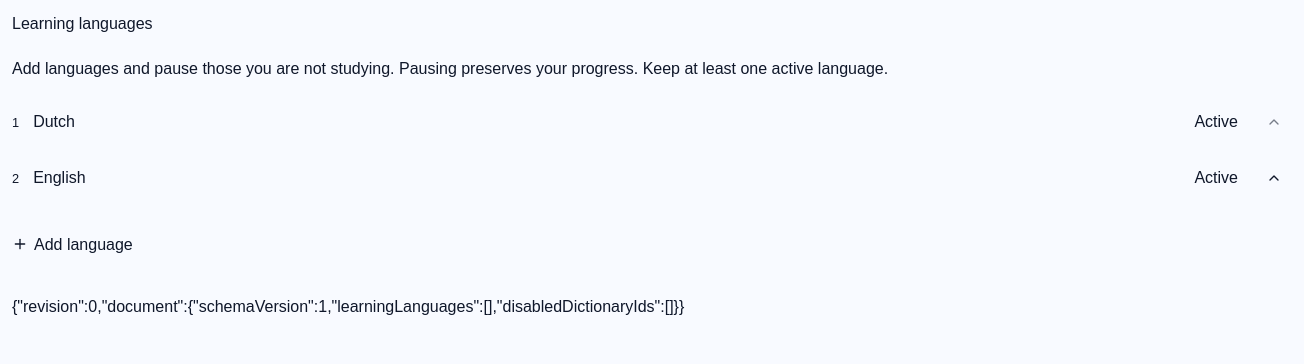
Test: conflict replaces stale selection with the server winner and does not silently reapply
Click the switch named "Study English" at (1216, 178), box [1184,162,1248,194]
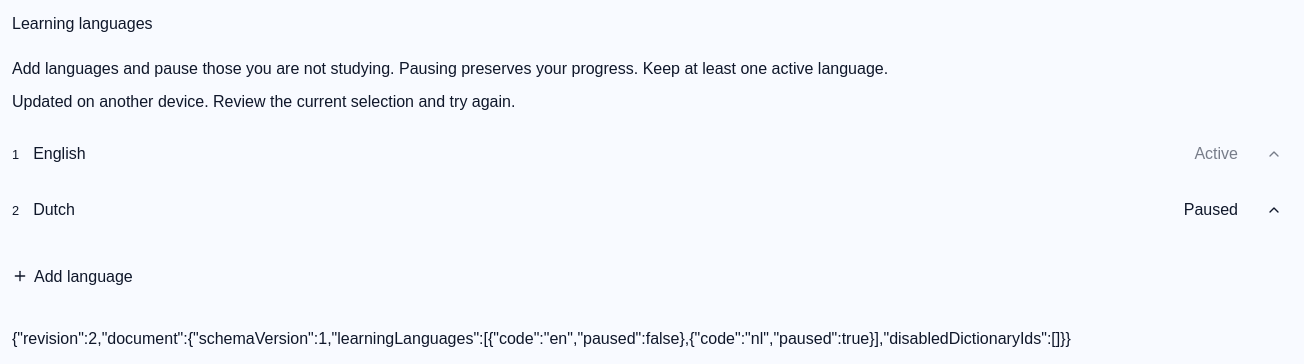
Expected: the text "Updated on another device. Review the current selection and try again." is shown, [12,90,515,114]
